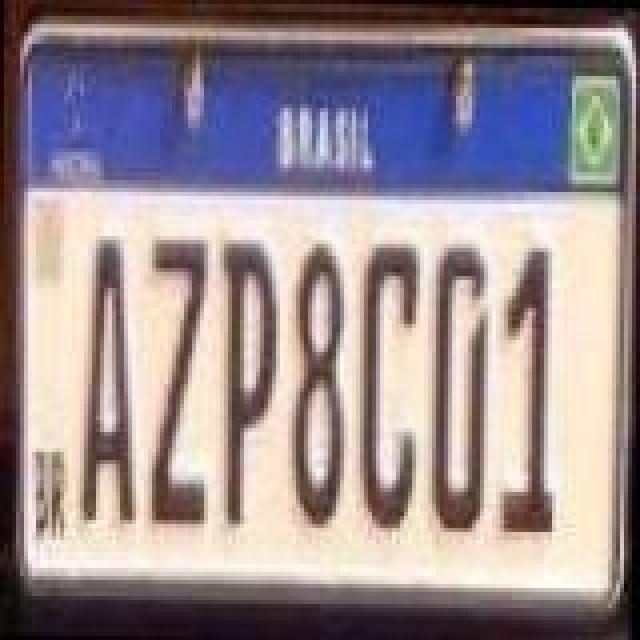1: (504, 242, 560, 542)
8: (296, 240, 352, 532)
A: (82, 230, 142, 530)
C: (362, 238, 422, 538)
D: (432, 238, 488, 538)
P: (216, 238, 280, 530)
Z: (148, 234, 212, 534)
